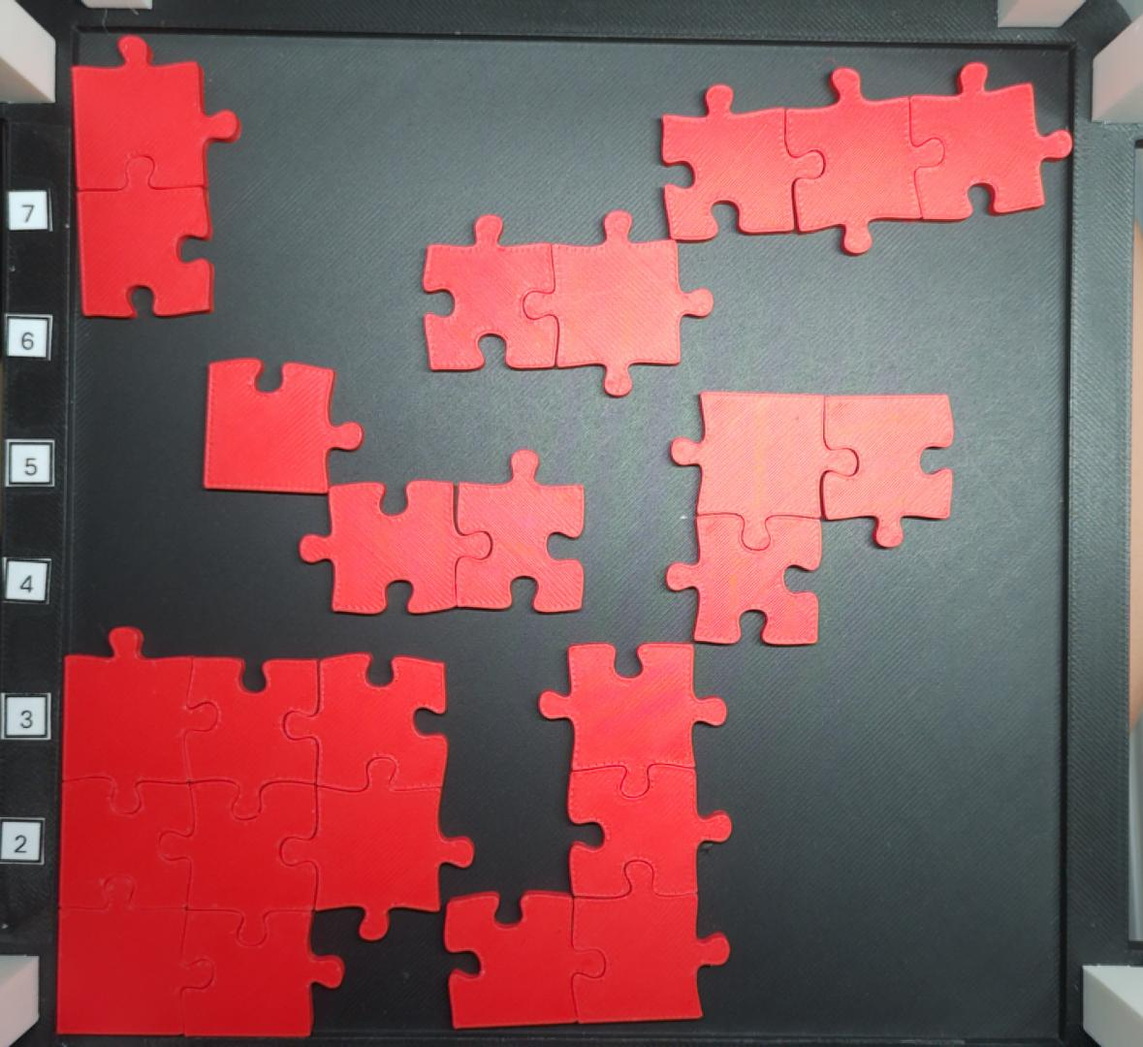p_1: (203, 358, 366, 494)
p_2: (423, 210, 712, 397), (299, 451, 587, 617), (69, 35, 238, 317)
p_3: (658, 59, 1073, 256), (668, 390, 954, 646)
p_4: (444, 641, 731, 1028)
p_m: (56, 625, 474, 1036)
